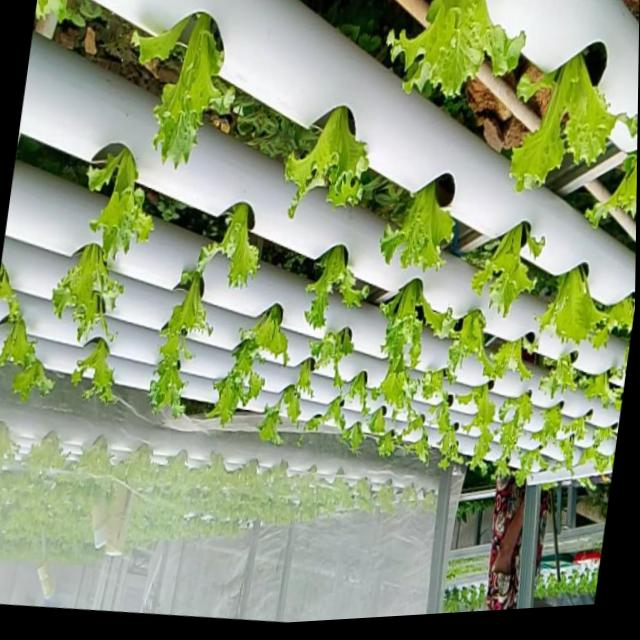Baby: (510, 57, 638, 193), (387, 0, 525, 99), (152, 12, 232, 168), (149, 263, 211, 416), (284, 105, 368, 217), (87, 146, 153, 259), (380, 173, 454, 270), (52, 243, 122, 340), (471, 221, 538, 316), (379, 279, 446, 368), (535, 265, 605, 348), (196, 201, 259, 287), (304, 244, 368, 328), (206, 338, 263, 425), (440, 308, 503, 379), (160, 270, 212, 346), (493, 390, 533, 474), (309, 326, 362, 386), (371, 352, 419, 415), (240, 303, 289, 363), (71, 337, 116, 402), (458, 385, 494, 466), (0, 298, 37, 371), (216, 339, 264, 390), (490, 336, 536, 381), (431, 395, 457, 469), (154, 329, 190, 378), (304, 396, 345, 434), (540, 354, 576, 397), (138, 20, 187, 49), (584, 372, 620, 409), (272, 382, 300, 426), (514, 448, 548, 484), (533, 404, 561, 446), (256, 403, 282, 444), (344, 371, 367, 412), (405, 427, 429, 466), (401, 409, 425, 441), (562, 416, 589, 442), (421, 369, 444, 399), (341, 422, 364, 451), (558, 434, 575, 471), (366, 407, 385, 434), (377, 430, 395, 456), (301, 362, 307, 375)
